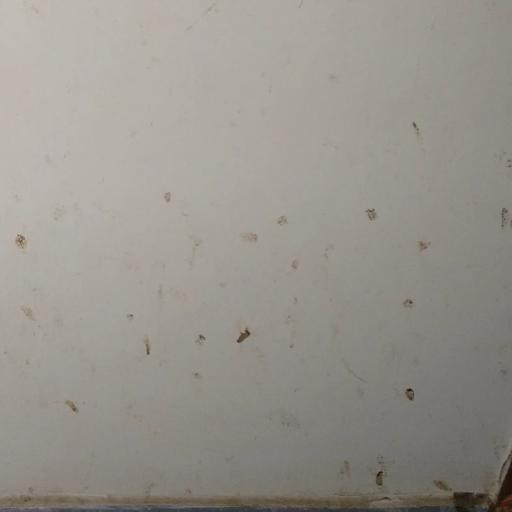stain: (119, 177, 450, 420), (10, 455, 512, 512), (15, 211, 91, 421), (396, 106, 444, 156), (488, 196, 512, 240)
